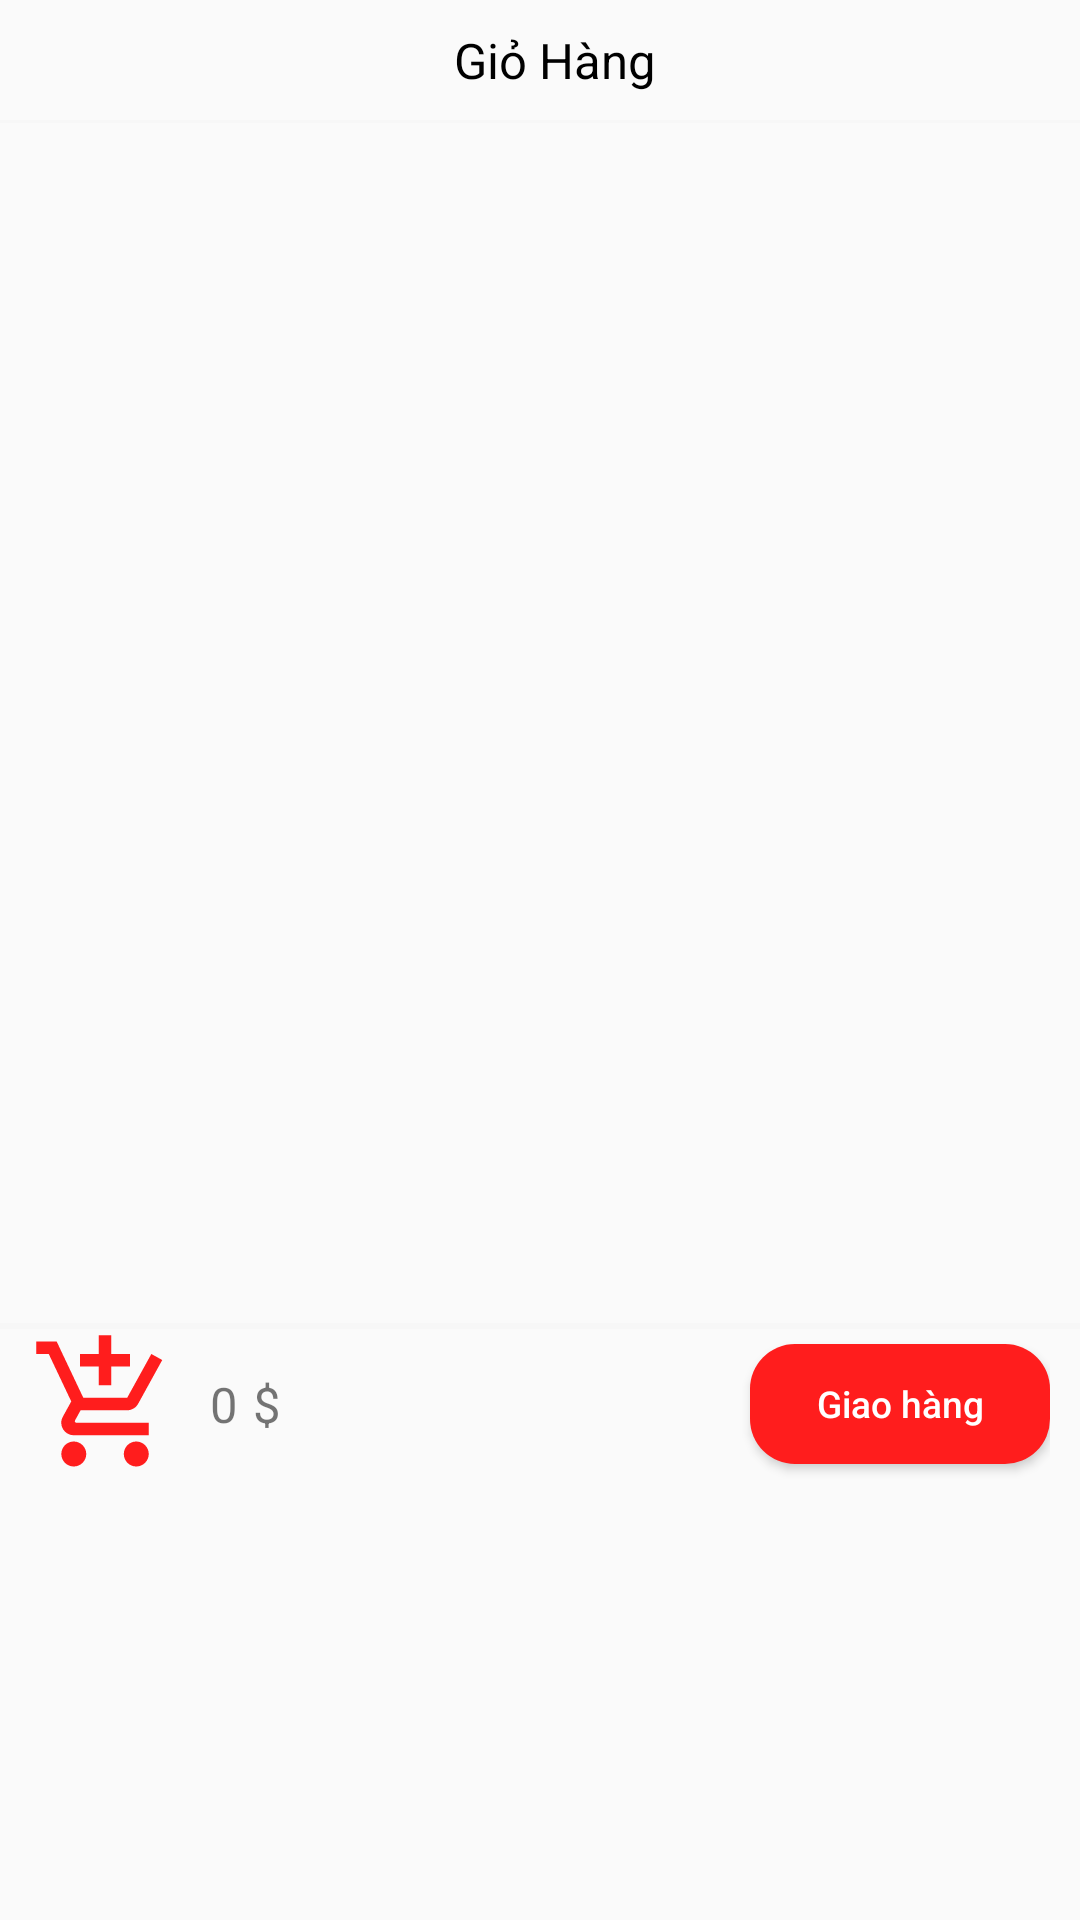

Point at icon controls on the screen. Image size 1080px×1920px, points as (x=x, y=y).
add shopping cart: (x=99, y=1401)
